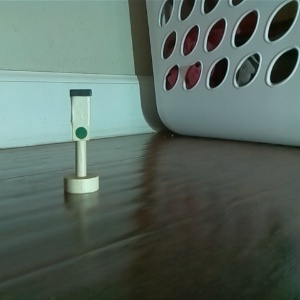traffic light green: (61, 86, 102, 195)
